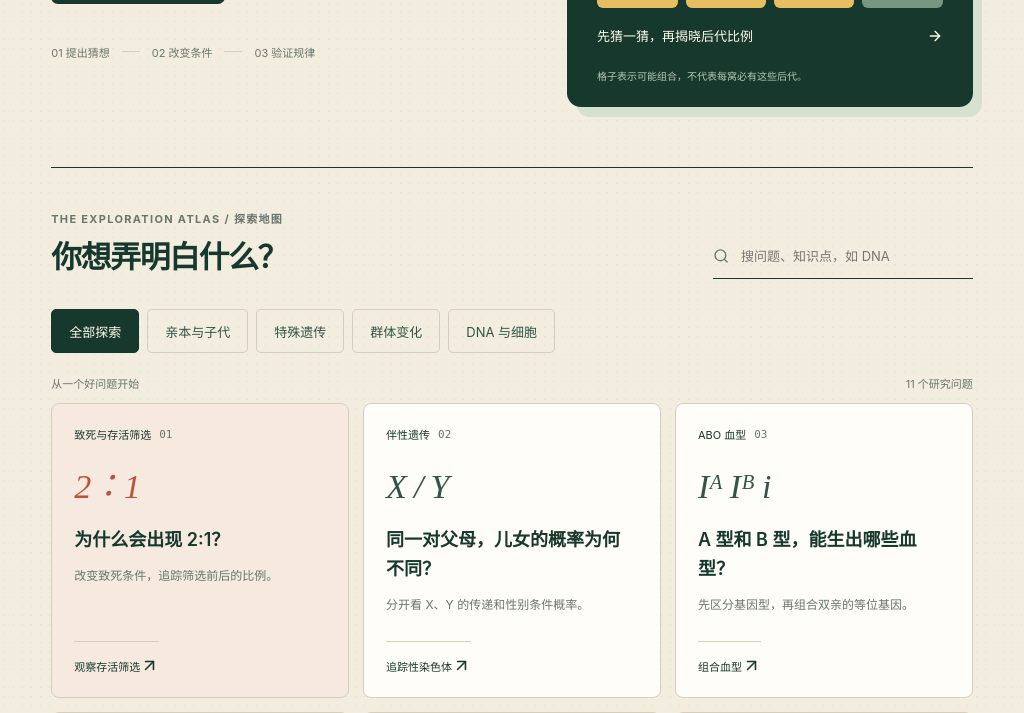
filters the exploration atlas by path
This screenshot has width=1024, height=713.
(page scrolled)
Step 1. Click the button "DNA 与细胞" → coordinates (502, 331), box 448,309 -> 555,353
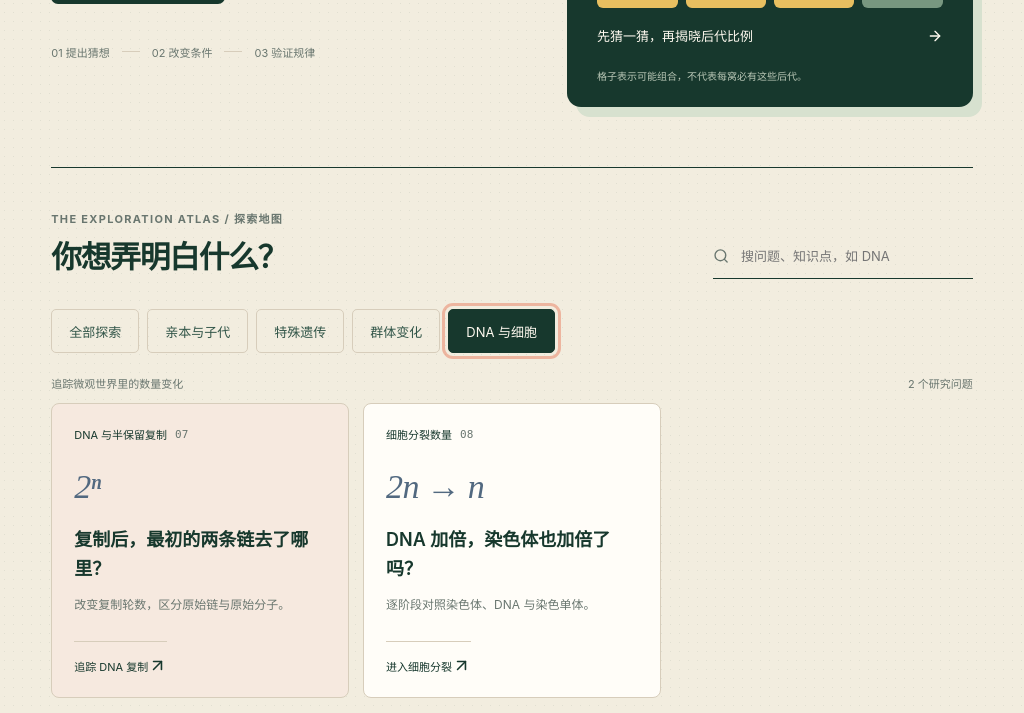
Check: the button "复制后，最初的两条链去了哪里" is shown, box 51,403 -> 349,698
Check: the button "为什么会出现 2∶1" is gone
